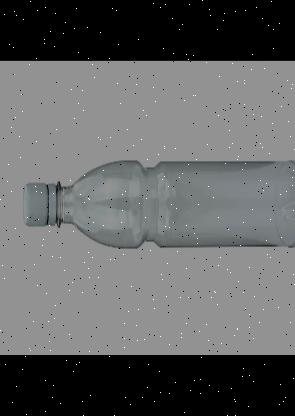Plastic Bottle: (16, 151, 295, 256)
